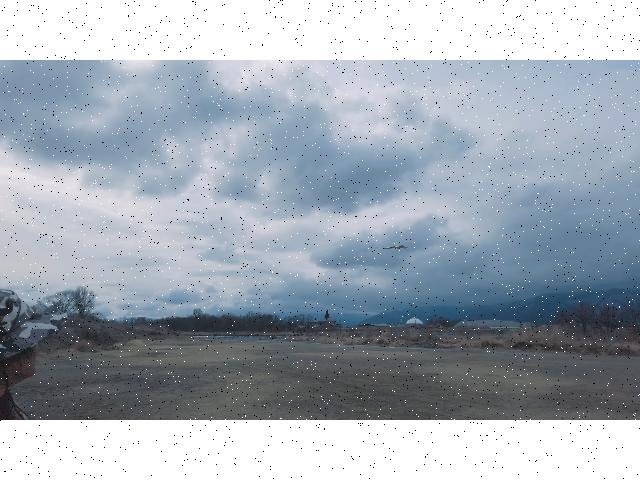Anti-Drone: (382, 243, 410, 253)
